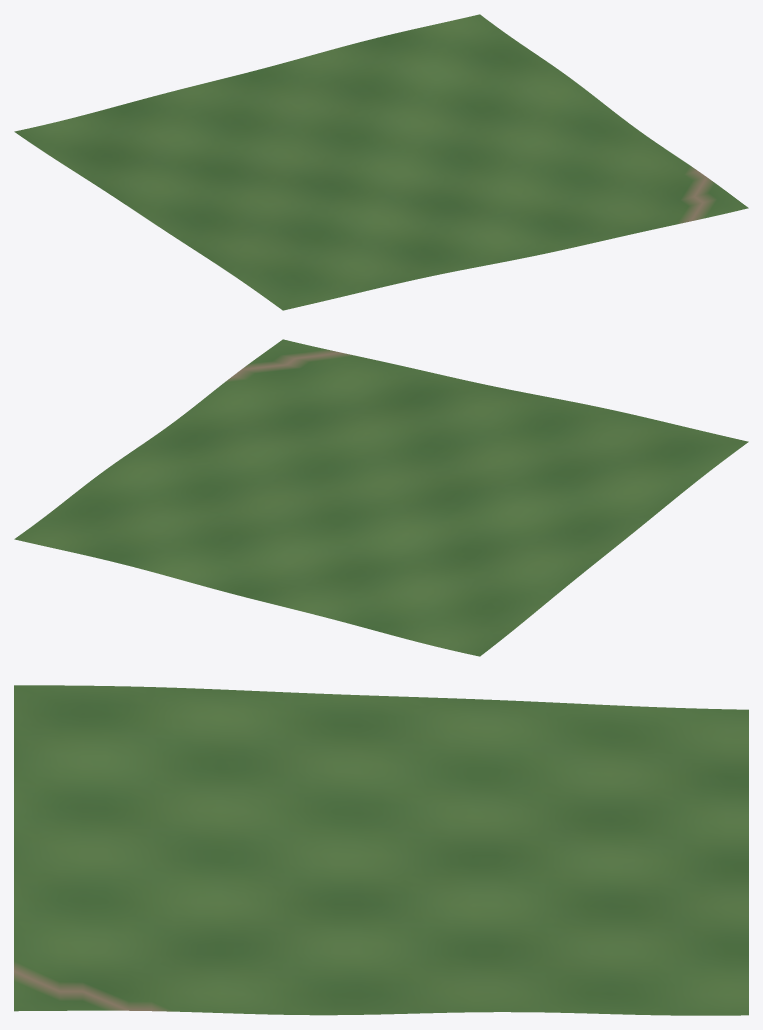
The model's file is chunk_9_3.glb.
The picture shows the model from 3 angles, top to bottom: view 1: azimuth 30°, elevation 25°; view 2: azimuth 150°, elevation 25°; view 3: azimuth 270°, elevation 25°; orthographic projection. The views are drawn at different scales.
Bounding box in the file's own units: 512 × 19.62 × 512.
